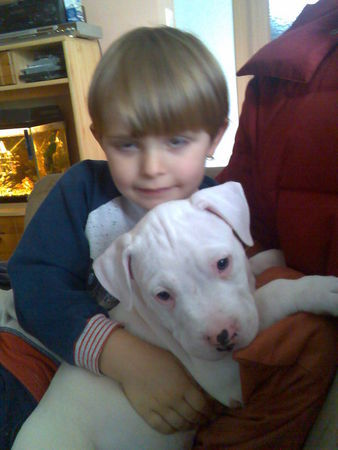dogo_argentino: (11, 180, 337, 447)
human_face: (88, 118, 229, 208)
person: (0, 22, 229, 448)
